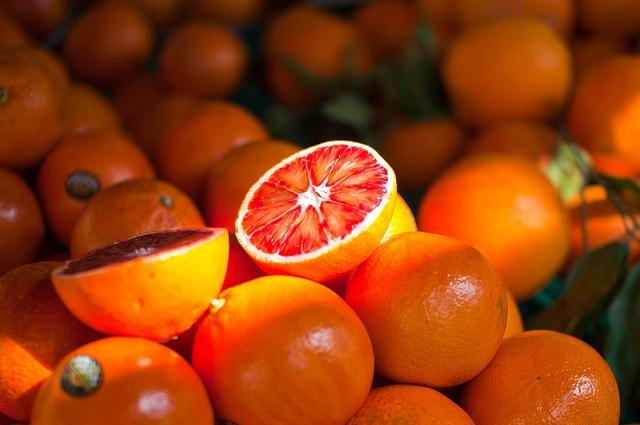orange: (192, 275, 374, 425), (344, 232, 508, 388), (234, 140, 398, 282), (417, 153, 570, 300), (50, 227, 229, 343), (439, 12, 576, 139), (29, 335, 216, 425), (1, 261, 121, 399), (460, 329, 620, 425), (36, 130, 158, 247), (151, 103, 268, 212), (176, 232, 268, 352), (264, 7, 370, 110), (318, 192, 418, 300), (70, 179, 206, 258), (203, 140, 303, 234), (565, 54, 640, 179), (60, 2, 157, 90), (0, 51, 62, 170), (157, 20, 249, 98), (554, 32, 630, 122), (377, 118, 468, 191), (125, 91, 218, 161), (454, 122, 566, 174), (450, 0, 580, 43), (342, 384, 473, 425), (0, 166, 46, 277), (356, 1, 423, 70), (106, 73, 172, 142), (566, 186, 627, 255), (62, 84, 124, 143), (2, 0, 69, 40), (188, 1, 270, 33), (132, 1, 188, 43), (580, 1, 640, 32), (415, 0, 459, 30), (502, 283, 524, 340), (0, 19, 31, 52)
